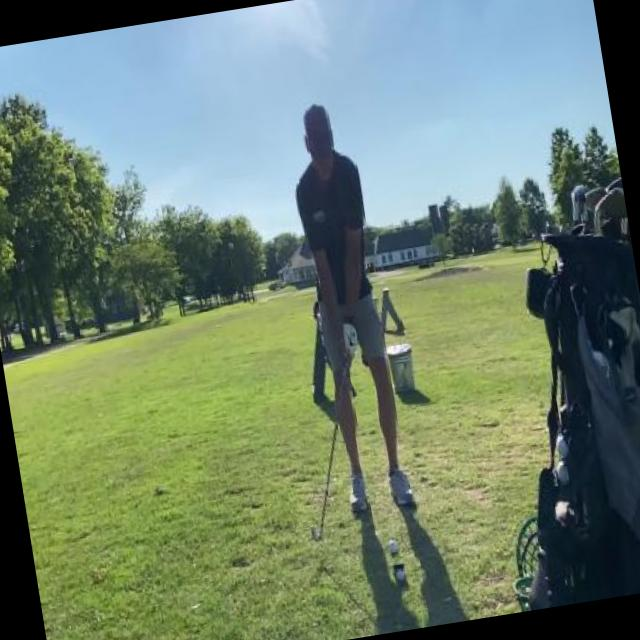club head: (309, 522, 326, 544)
